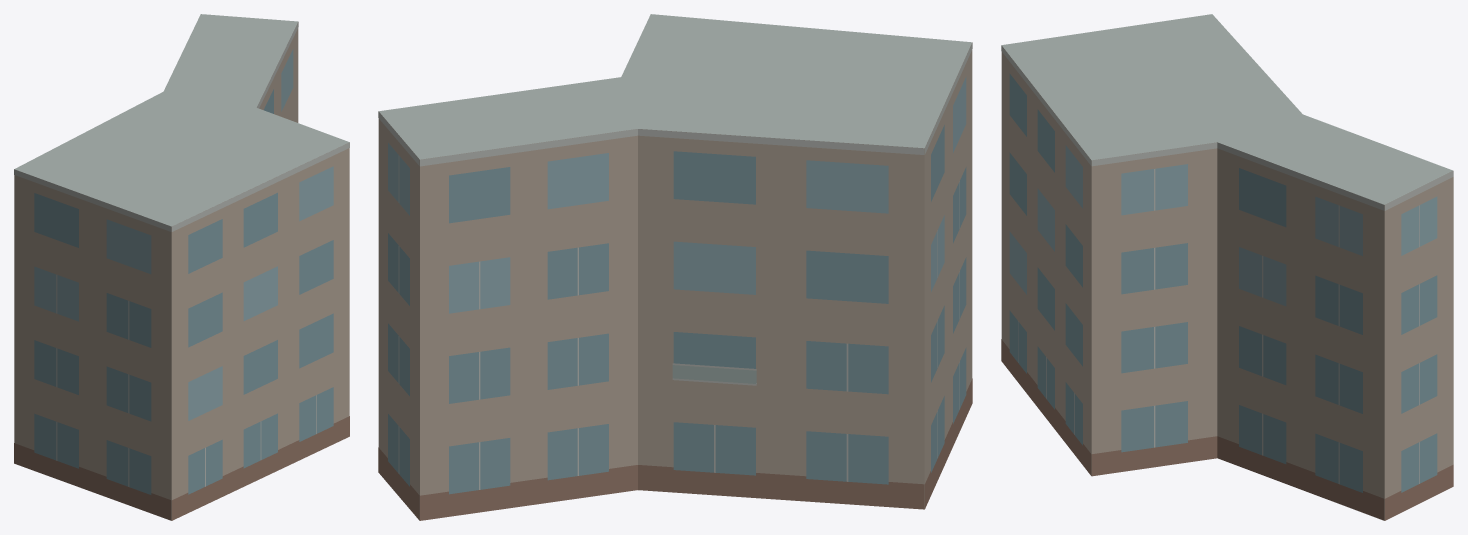
Rendered from survey-upis-32820708.glb.
3 views of the same model, side by side, from view 1: azimuth 30°, elevation 25°; view 2: azimuth 150°, elevation 25°; view 3: azimuth 270°, elevation 25° (orthographic). The views are drawn at different scales.
Visible parts, largest first — view 1: survey-upis-32820708.tmp; view 2: survey-upis-32820708.tmp; view 3: survey-upis-32820708.tmp.
Part boxes in pixels (x1,y1,x2,y2): survey-upis-32820708.tmp: (14,14,349,520); survey-upis-32820708.tmp: (378,14,972,520); survey-upis-32820708.tmp: (1001,14,1453,520).
Bounding box in the file's own units: 16.6 × 12.8 × 16.61.
